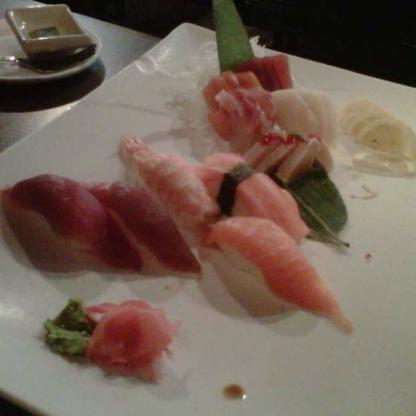tuna: (5, 168, 192, 272)
